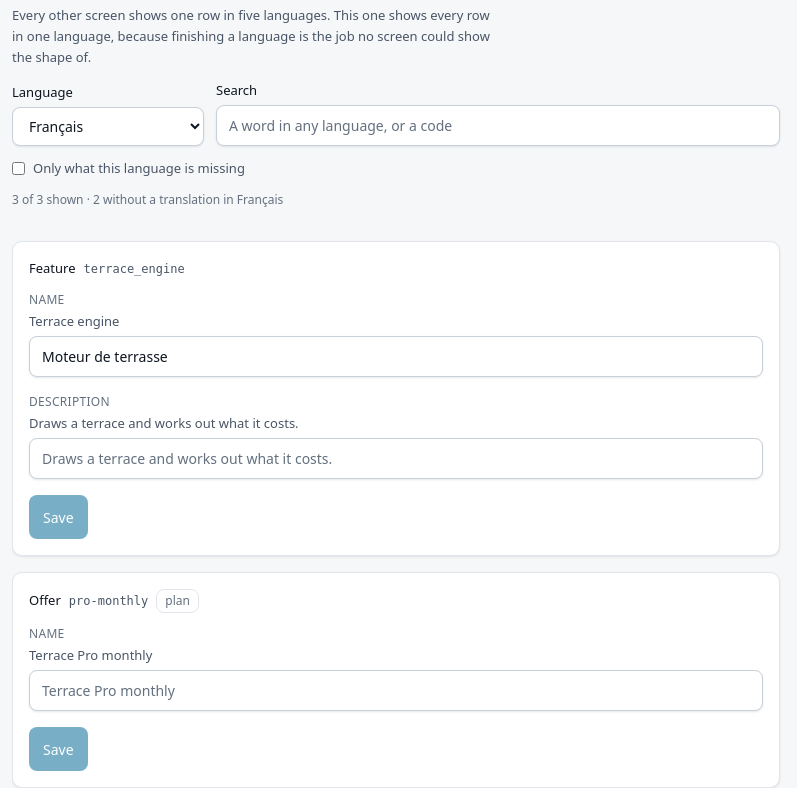
Test: saving › offers nothing to save until something is typed
The image size is (797, 788).
(page scrolled)
expect the button with test id "save-offer-pro-monthly" is disabled: met, box [29,727,88,771]
In the field with test id "translation-offer-pro-monthly-name": (396, 690) [29,670,763,711], type "Terrasse Pro mensuel"
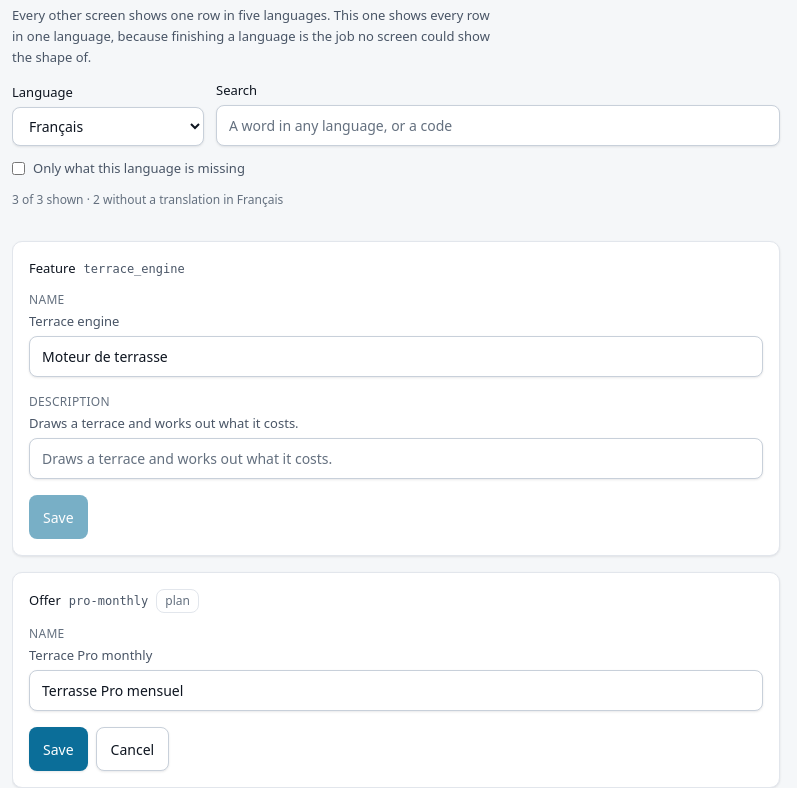
expect the button with test id "save-offer-pro-monthly" is enabled: met, box [29,727,88,771]
